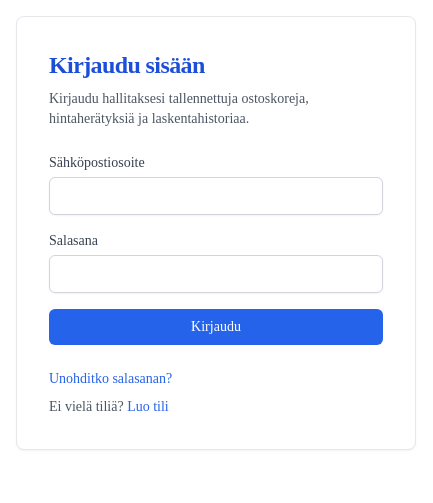
Test: LoginPage › shows the retry message on 429 rate limiting
In the field labelled "Sähköpostiosoite": (216, 196) [49,177,383,215], type "kayttaja@example.fi"
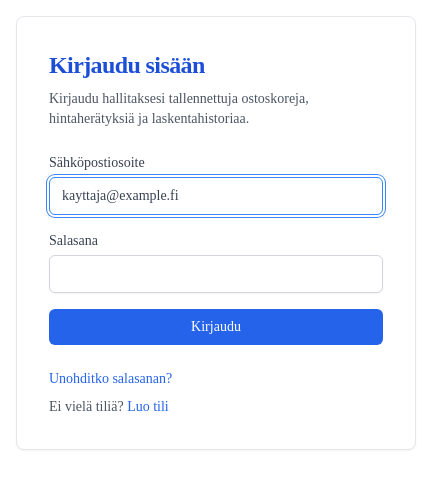
In the password field labelled "Salasana": (216, 274) [49,255,383,293], type "salasana-12-merkKIna"
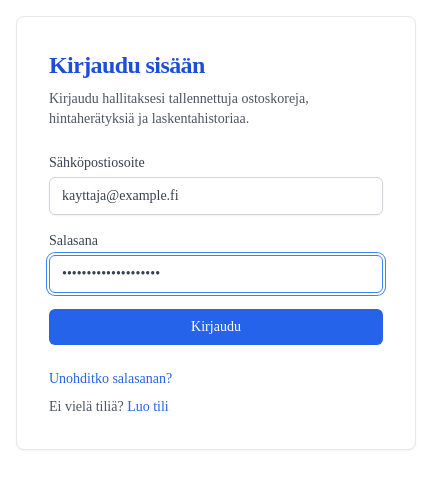
Click the button with test id "login-submit": (216, 327) [49,309,383,345]
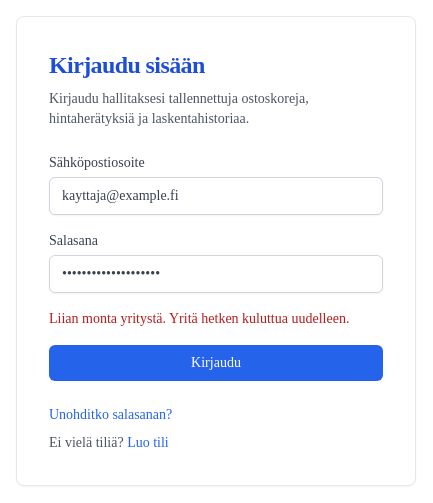
Result: the message with test id "login-failure" shows "Liian monta yritystä." at [49,311,349,326]
